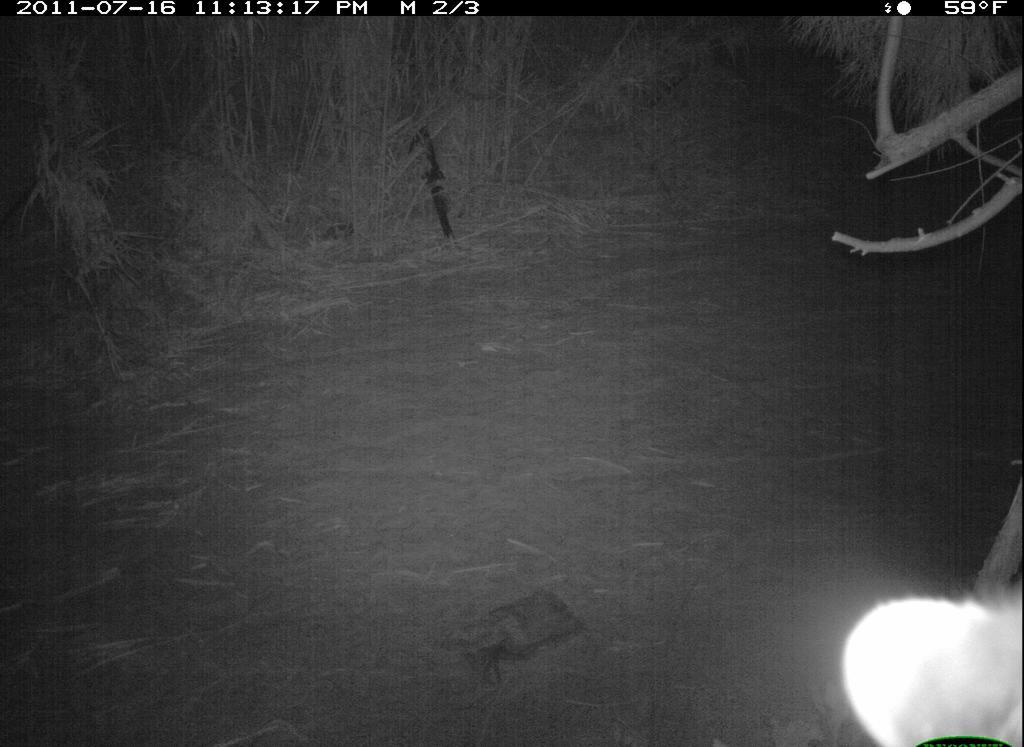raccoon: (833, 556, 1021, 736)
